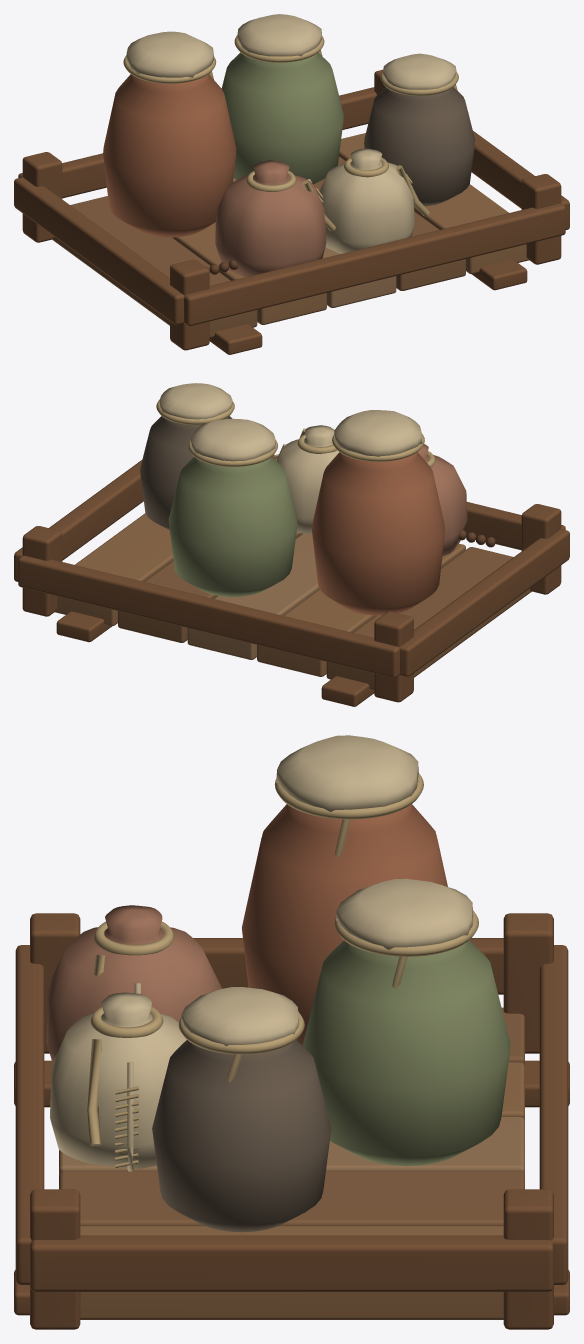
Rendered from spices.glb.
3 views of the same model, one above another, from view 1: azimuth 30°, elevation 25°; view 2: azimuth 150°, elevation 25°; view 3: azimuth 270°, elevation 25° (orthographic). The views are drawn at different scales.
Parts seen in each view (by area): view 1: Cargo_spices; view 2: Cargo_spices; view 3: Cargo_spices.
Part boxes in pixels (x1,y1,x2,y2): Cargo_spices: (14,14,569,354); Cargo_spices: (14,383,569,706); Cargo_spices: (14,735,569,1329).
Size of the model in its own units: 1.03 by 0.5595 by 0.775.
